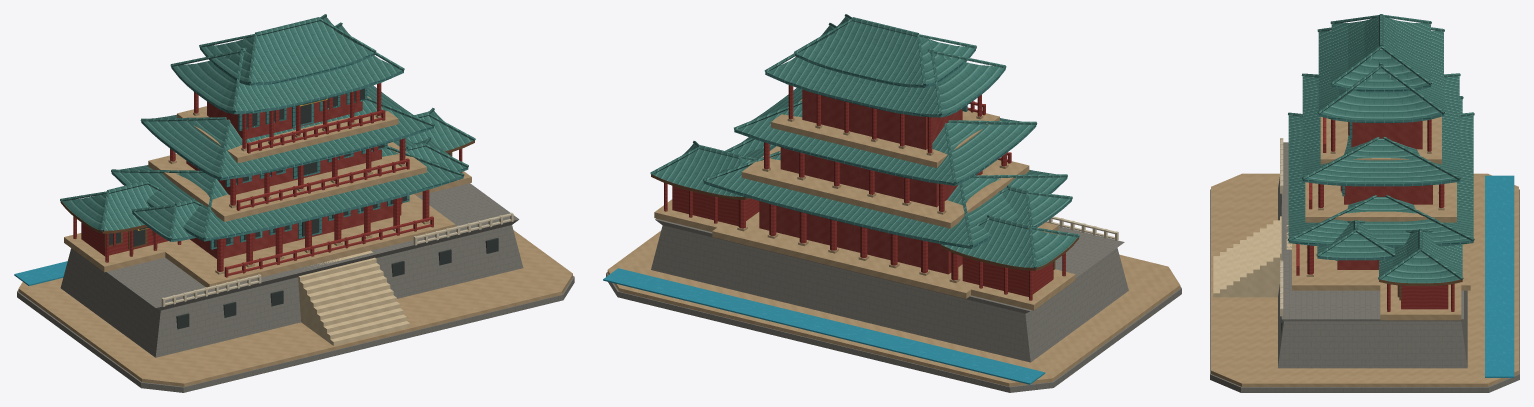
File: tengwang.glb
3 views of the same model, side by side, from view 1: azimuth 30°, elevation 25°; view 2: azimuth 150°, elevation 25°; view 3: azimuth 270°, elevation 25° (orthographic). The views are drawn at different scales.
Parts seen in each view (by area): view 1: 滕王阁; view 2: 滕王阁; view 3: 滕王阁.
Boxes of the visible parts, x1,y1,x2,y2 form: 滕王阁: [14, 14, 574, 392]; 滕王阁: [603, 14, 1181, 392]; 滕王阁: [1210, 14, 1519, 392].
Bounding box in the file's own units: 12.9 × 7.35 × 8.
Materials: 12 (12 with a texture image).
